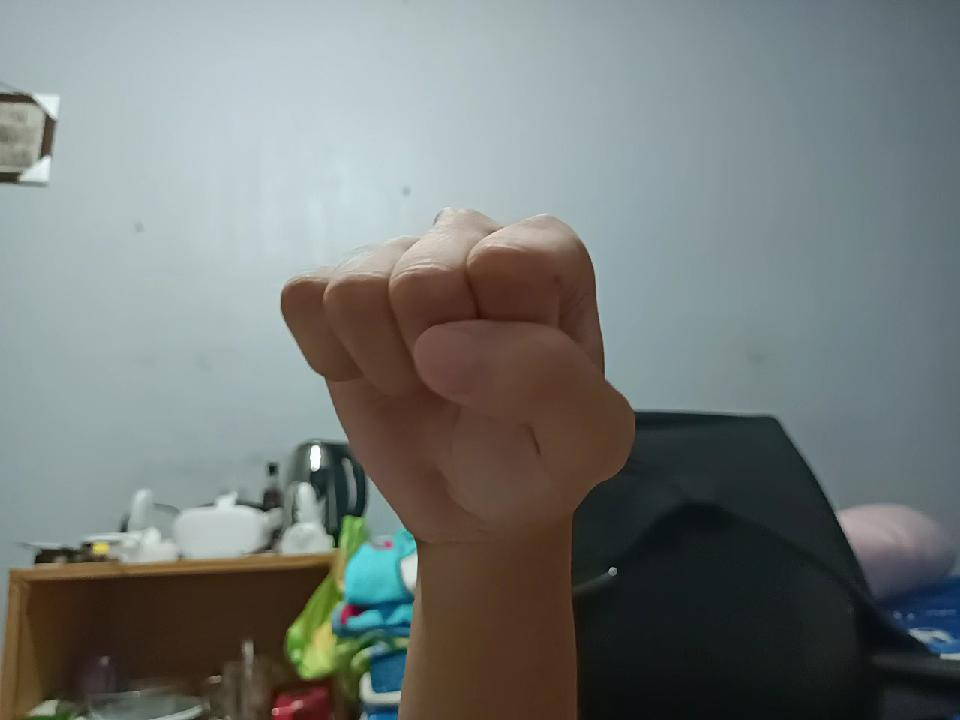rock: (270, 208, 644, 585)
